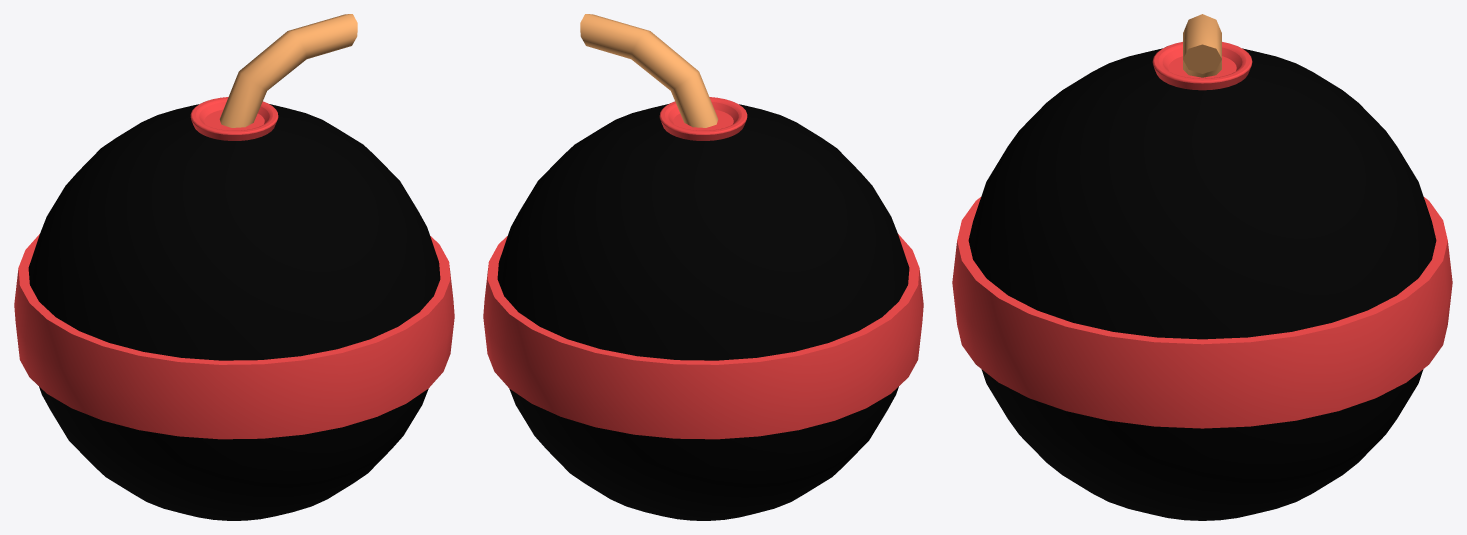
File: Bomb.fbx
The picture shows the model from 3 angles, left to right: view 1: azimuth 30°, elevation 25°; view 2: azimuth 150°, elevation 25°; view 3: azimuth 270°, elevation 25°; orthographic projection. The views are drawn at different scales.
Visible parts, largest first — view 1: Sphere; view 2: Sphere; view 3: Sphere.
Boxes of the visible parts, x1,y1,x2,y2 form: Sphere: (14, 14, 454, 520); Sphere: (483, 14, 923, 520); Sphere: (952, 14, 1452, 520).
Bounding box in the file's own units: 2.1 × 2.41 × 2.1.
